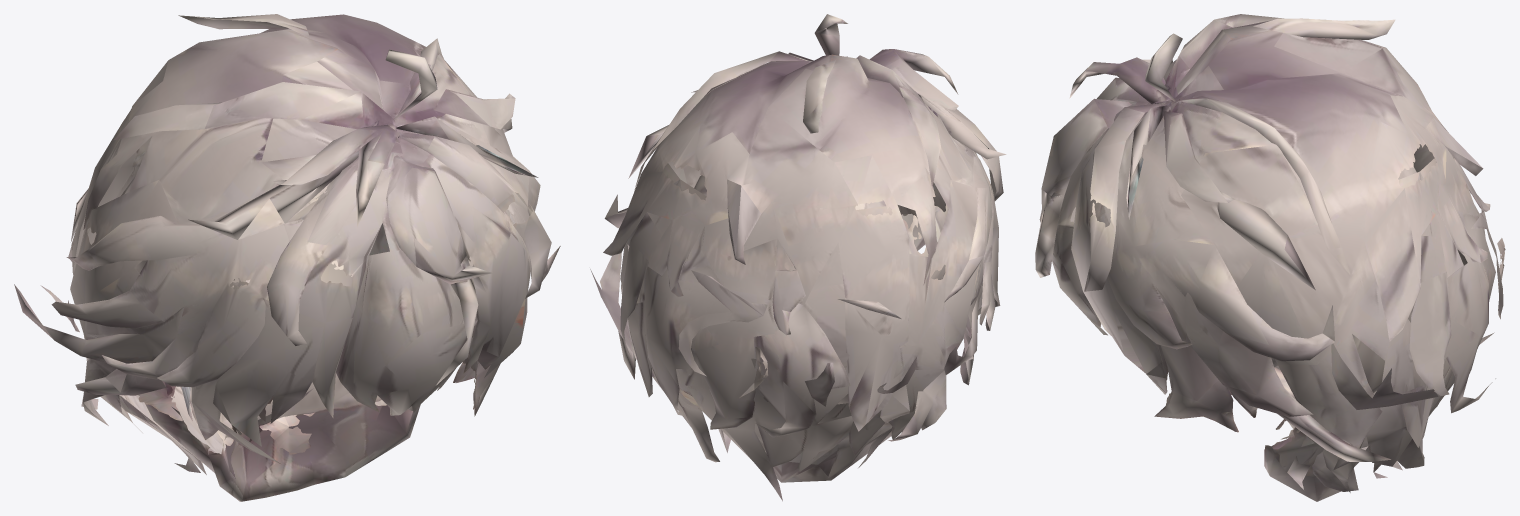
File: curly.glb
3 renders of one model, left to right at view 1: azimuth 30°, elevation 25°; view 2: azimuth 150°, elevation 25°; view 3: azimuth 270°, elevation 25°, orthographic. The views are drawn at different scales.
Visible parts, largest first — view 1: Mesh_0; view 2: Mesh_0; view 3: Mesh_0.
Boxes of the visible parts, left/top/right/bottom form: Mesh_0: left=14, top=14, right=560, bottom=501; Mesh_0: left=590, top=14, right=1006, bottom=501; Mesh_0: left=1035, top=14, right=1505, bottom=501.
Size of the model in its own units: 1.68 by 1.71 by 1.57.
Materials: 1 (1 with a texture image).
